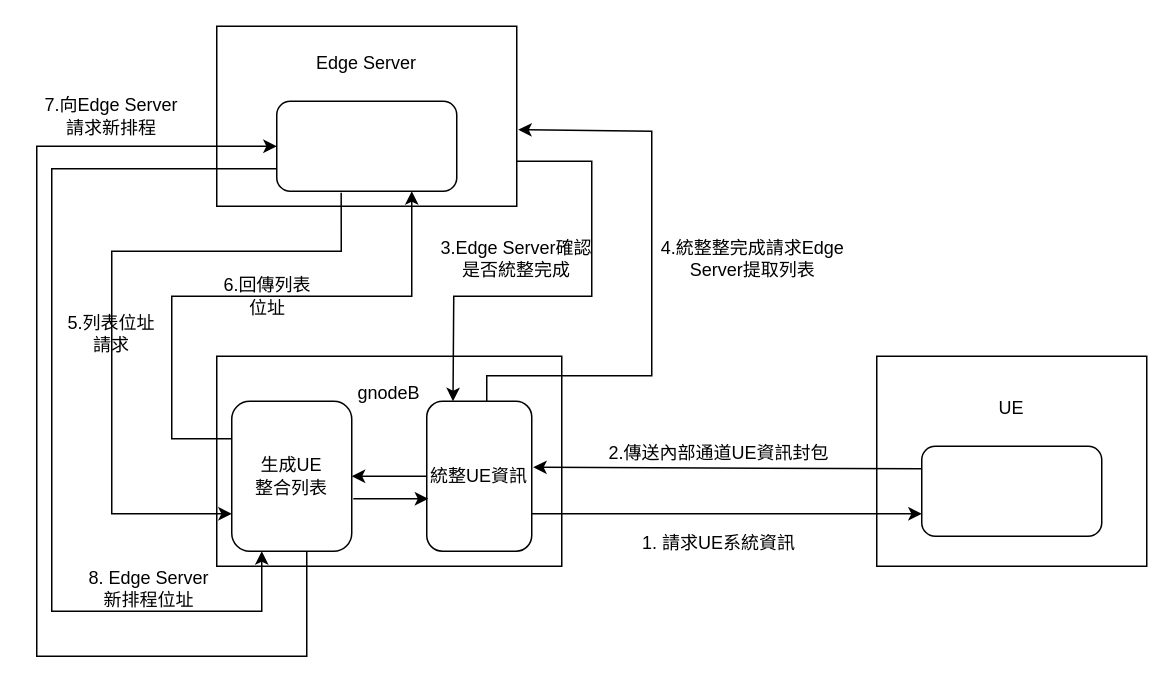
The diagram is 1173 pixels wide and 695 high, and some of its shapes have lost their labels. The centre of each missing label's shape, as x and y in pixels:
生成排程列表: (366,145)
生成系統資訊: (1011,490)
